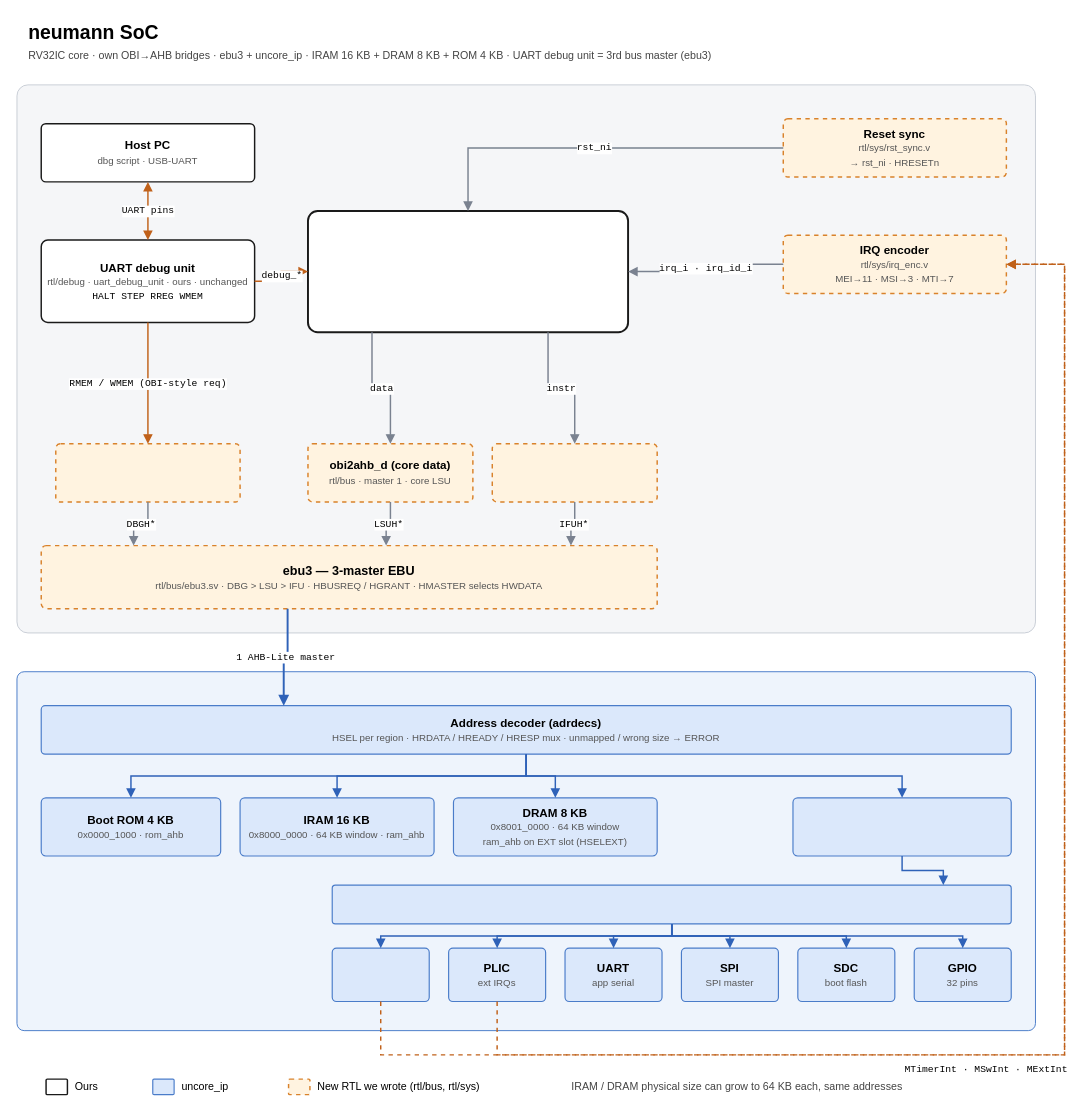
Some shapes in this 1090 by 1113 pixel diagram are drawn without their labels. Each missing label, with the box of its shape:
AHB → APB bridge ahbapbbridge: (792, 797, 1011, 856)
APB PSEL per peripheral · PSTRB ← HWSTRB: (331, 884, 1011, 924)
CLINT timer · msip: (331, 947, 429, 1002)
CPU subsystem (rtl/): (16, 84, 1035, 633)
neumann core rtl/core · rv32i_core RV32IC · Zicsr · 2-stage · frozen: (307, 210, 629, 333)
obi2ahb_d (debug) rtl/bus · UART debug unit = master 2: (55, 443, 240, 502)
obi2ahb_i rtl/bus · master 0 · lowest priority: (491, 443, 657, 502)
uncore (uncore_ip/src/uncore/uncore.sv): (16, 671, 1035, 1031)
